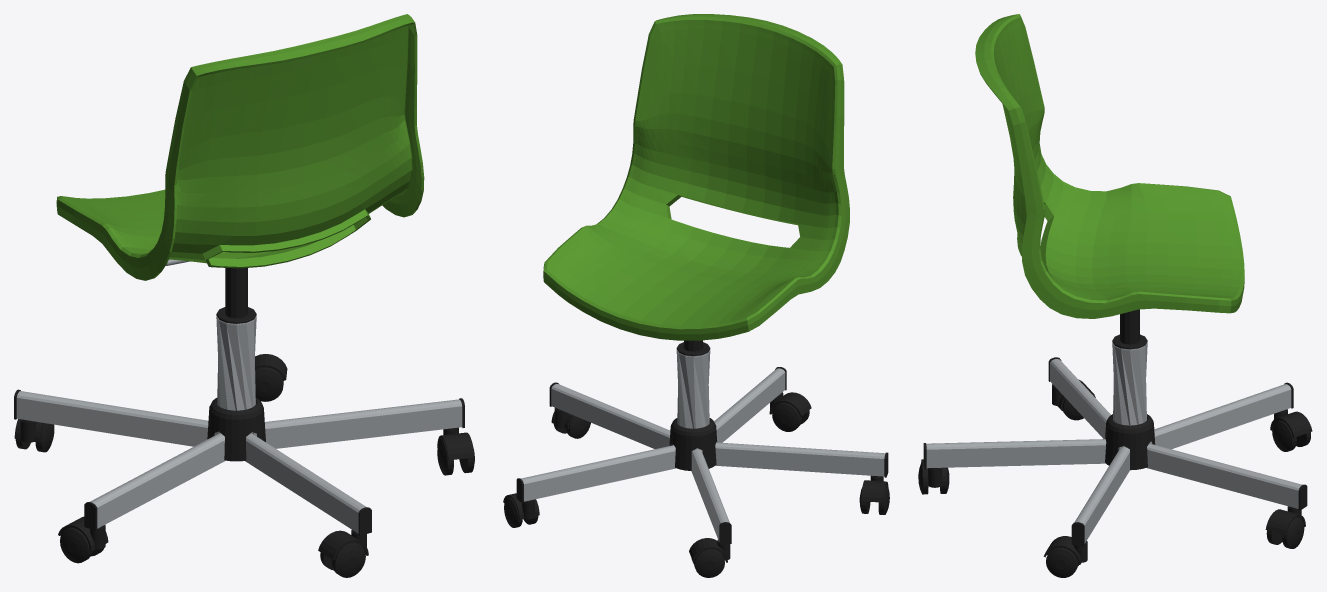
3 renders of one model, left to right at view 1: azimuth 30°, elevation 25°; view 2: azimuth 150°, elevation 25°; view 3: azimuth 270°, elevation 25°, orthographic. The views are drawn at different scales.
Visible parts, largest first — view 1: Mesh2 Group2 SNILLE_IKEA1 Model, Mesh8 Group6 SNILLE_IKEA1 Model, Mesh7 Group5 SNILLE_IKEA1 Model, Mesh1 Group1 SNILLE_IKEA1 Model, Mesh3 Group3 SNILLE_IKEA1 Model, Mesh20 ROULETTE4 SNILLE_IKEA1 Model, Mesh16 ROULETTE3 SNILLE_IKEA1 Model, Mesh12 ROULETTE2 SNILLE_IKEA1 Model, Mesh11 ROULETTE1 SNILLE_IKEA1 Model, Mesh18 ROULETTE4 SNILLE_IKEA1 Model, Mesh9 ROULETTE1 SNILLE_IKEA1 Model, Mesh21 ROULETTE5 SNILLE_IKEA1 Model; view 2: Mesh2 Group2 SNILLE_IKEA1 Model, Mesh8 Group6 SNILLE_IKEA1 Model, Mesh7 Group5 SNILLE_IKEA1 Model, Mesh1 Group1 SNILLE_IKEA1 Model, Mesh23 ROULETTE5 SNILLE_IKEA1 Model, Mesh19 ROULETTE4 SNILLE_IKEA1 Model, Mesh9 ROULETTE1 SNILLE_IKEA1 Model, Mesh21 ROULETTE5 SNILLE_IKEA1 Model, Mesh18 ROULETTE4 SNILLE_IKEA1 Model; view 3: Mesh2 Group2 SNILLE_IKEA1 Model, Mesh8 Group6 SNILLE_IKEA1 Model, Mesh7 Group5 SNILLE_IKEA1 Model, Mesh1 Group1 SNILLE_IKEA1 Model, Mesh3 Group3 SNILLE_IKEA1 Model, Mesh14 ROULETTE2 SNILLE_IKEA1 Model, Mesh15 ROULETTE3 SNILLE_IKEA1 Model, Mesh21 ROULETTE5 SNILLE_IKEA1 Model, Mesh22 ROULETTE5 SNILLE_IKEA1 Model, Mesh12 ROULETTE2 SNILLE_IKEA1 Model.
Boxes of the visible parts, x1=… form: Mesh2 Group2 SNILLE_IKEA1 Model: x1=56, y1=14, x2=424, y2=280; Mesh8 Group6 SNILLE_IKEA1 Model: x1=14, y1=389, x2=464, y2=535; Mesh7 Group5 SNILLE_IKEA1 Model: x1=216, y1=316, x2=256, y2=410; Mesh1 Group1 SNILLE_IKEA1 Model: x1=207, y1=397, x2=265, y2=461; Mesh3 Group3 SNILLE_IKEA1 Model: x1=216, y1=268, x2=256, y2=323; Mesh20 ROULETTE4 SNILLE_IKEA1 Model: x1=331, y1=542, x2=365, y2=577; Mesh16 ROULETTE3 SNILLE_IKEA1 Model: x1=255, y1=367, x2=283, y2=401; Mesh12 ROULETTE2 SNILLE_IKEA1 Model: x1=437, y1=427, x2=474, y2=460; Mesh11 ROULETTE1 SNILLE_IKEA1 Model: x1=60, y1=527, x2=92, y2=563; Mesh18 ROULETTE4 SNILLE_IKEA1 Model: x1=318, y1=530, x2=368, y2=560; Mesh9 ROULETTE1 SNILLE_IKEA1 Model: x1=58, y1=516, x2=108, y2=551; Mesh21 ROULETTE5 SNILLE_IKEA1 Model: x1=14, y1=419, x2=43, y2=442; Mesh2 Group2 SNILLE_IKEA1 Model: x1=543, y1=14, x2=849, y2=340; Mesh8 Group6 SNILLE_IKEA1 Model: x1=516, y1=367, x2=888, y2=544; Mesh7 Group5 SNILLE_IKEA1 Model: x1=676, y1=350, x2=710, y2=428; Mesh1 Group1 SNILLE_IKEA1 Model: x1=669, y1=418, x2=717, y2=470; Mesh23 ROULETTE5 SNILLE_IKEA1 Model: x1=694, y1=549, x2=724, y2=577; Mesh19 ROULETTE4 SNILLE_IKEA1 Model: x1=772, y1=402, x2=801, y2=431; Mesh9 ROULETTE1 SNILLE_IKEA1 Model: x1=861, y1=475, x2=888, y2=502; Mesh21 ROULETTE5 SNILLE_IKEA1 Model: x1=689, y1=538, x2=730, y2=562; Mesh18 ROULETTE4 SNILLE_IKEA1 Model: x1=769, y1=392, x2=811, y2=416; Mesh2 Group2 SNILLE_IKEA1 Model: x1=975, y1=14, x2=1244, y2=318; Mesh8 Group6 SNILLE_IKEA1 Model: x1=923, y1=357, x2=1307, y2=546; Mesh7 Group5 SNILLE_IKEA1 Model: x1=1112, y1=342, x2=1147, y2=425; Mesh1 Group1 SNILLE_IKEA1 Model: x1=1105, y1=414, x2=1155, y2=470; Mesh3 Group3 SNILLE_IKEA1 Model: x1=1112, y1=309, x2=1147, y2=349; Mesh14 ROULETTE2 SNILLE_IKEA1 Model: x1=1046, y1=547, x2=1078, y2=577; Mesh15 ROULETTE3 SNILLE_IKEA1 Model: x1=1265, y1=506, x2=1305, y2=535; Mesh21 ROULETTE5 SNILLE_IKEA1 Model: x1=1270, y1=409, x2=1312, y2=437; Mesh22 ROULETTE5 SNILLE_IKEA1 Model: x1=1272, y1=420, x2=1296, y2=451; Mesh12 ROULETTE2 SNILLE_IKEA1 Model: x1=1043, y1=536, x2=1087, y2=564.
Size of the model in its own units: 0.597 by 0.7194 by 0.5779.
